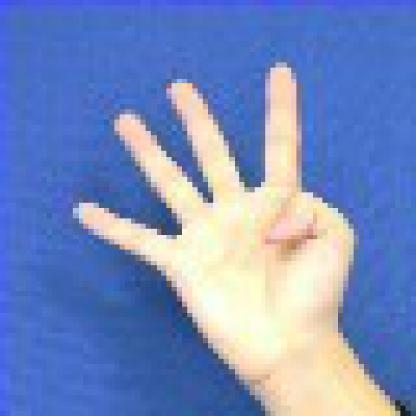four: (67, 55, 395, 387)
